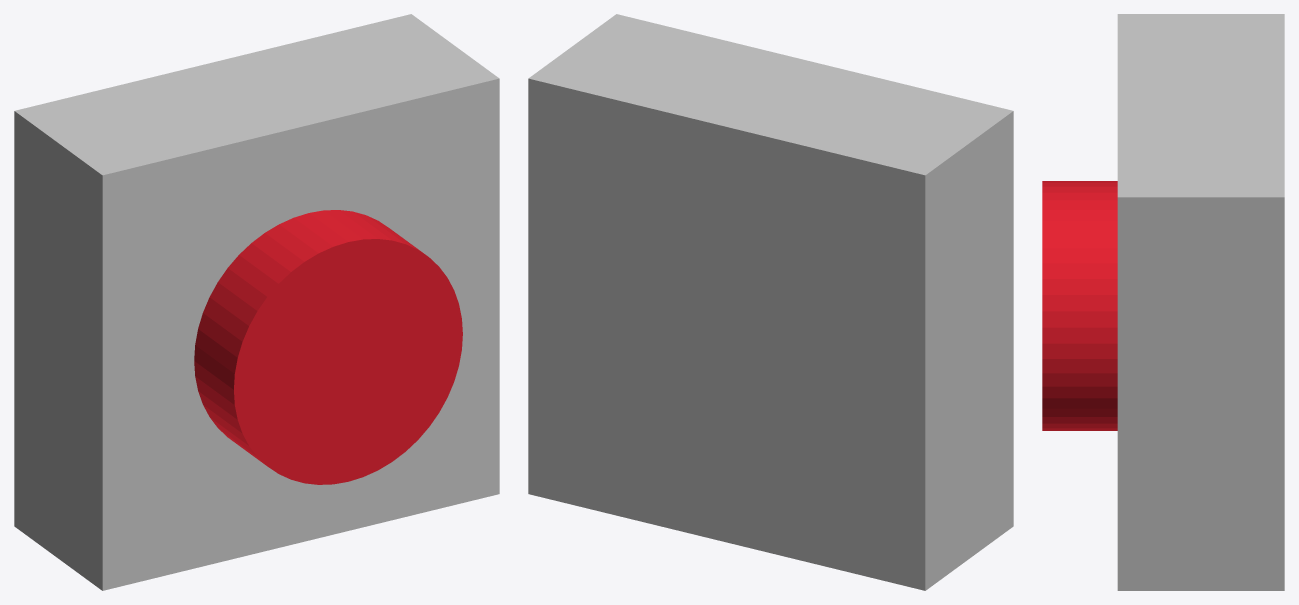
File: tinker 1.obj
3 views of the same model, side by side, from view 1: azimuth 30°, elevation 25°; view 2: azimuth 150°, elevation 25°; view 3: azimuth 270°, elevation 25° (orthographic). The views are drawn at different scales.
Visible parts, largest first — view 1: obj_0, obj_1; view 2: obj_0; view 3: obj_0, obj_1.
Boxes of the visible parts, x1,y1,x2,y2 form: obj_0: (14, 14, 499, 590); obj_1: (194, 210, 462, 484); obj_0: (528, 14, 1013, 590); obj_0: (1117, 14, 1284, 590); obj_1: (1042, 181, 1117, 430).
Size of the model in its own units: 52 by 52 by 29.
